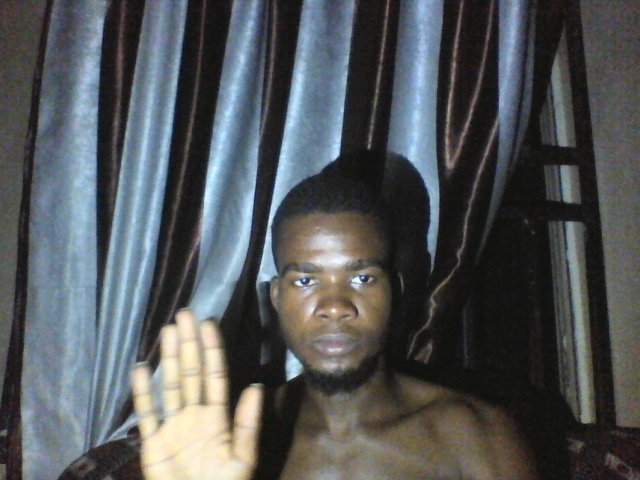hello: (128, 306, 270, 480)
